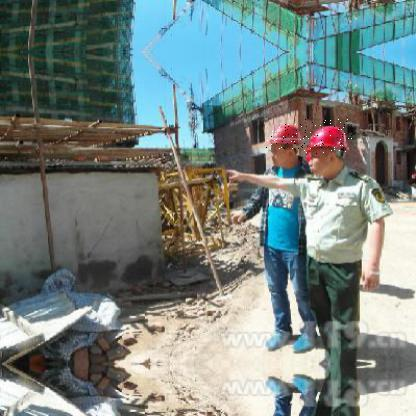safetyhelmet: (304, 119, 353, 156), (266, 124, 307, 150)
